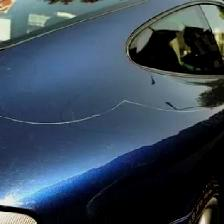door_scratch: (4, 95, 215, 127)
